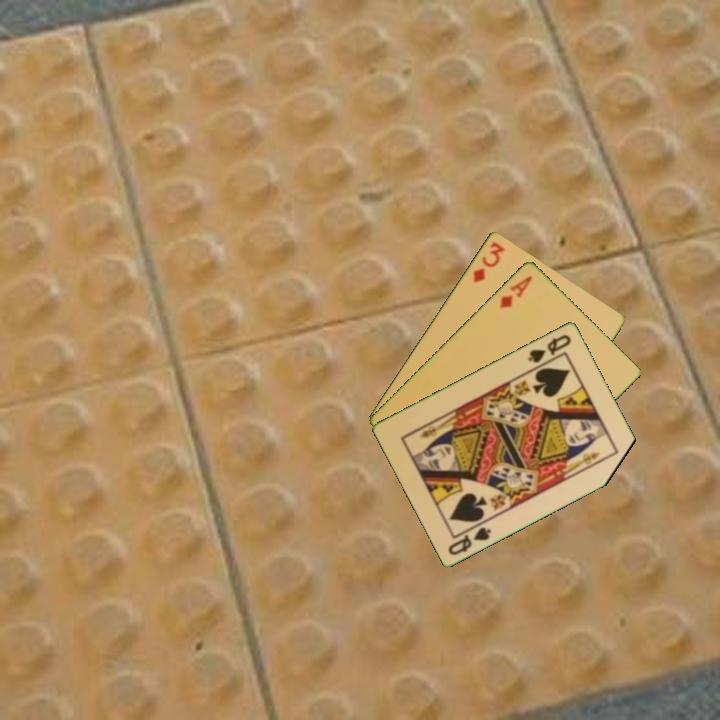3d: (469, 238, 508, 286)
Ad: (496, 272, 535, 311)
Qs: (445, 517, 494, 558), (524, 330, 574, 366)
